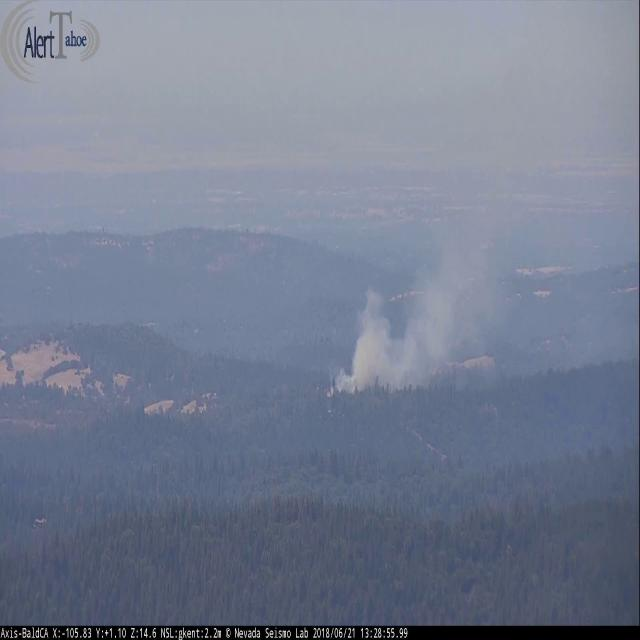smoke: (322, 174, 525, 410)
